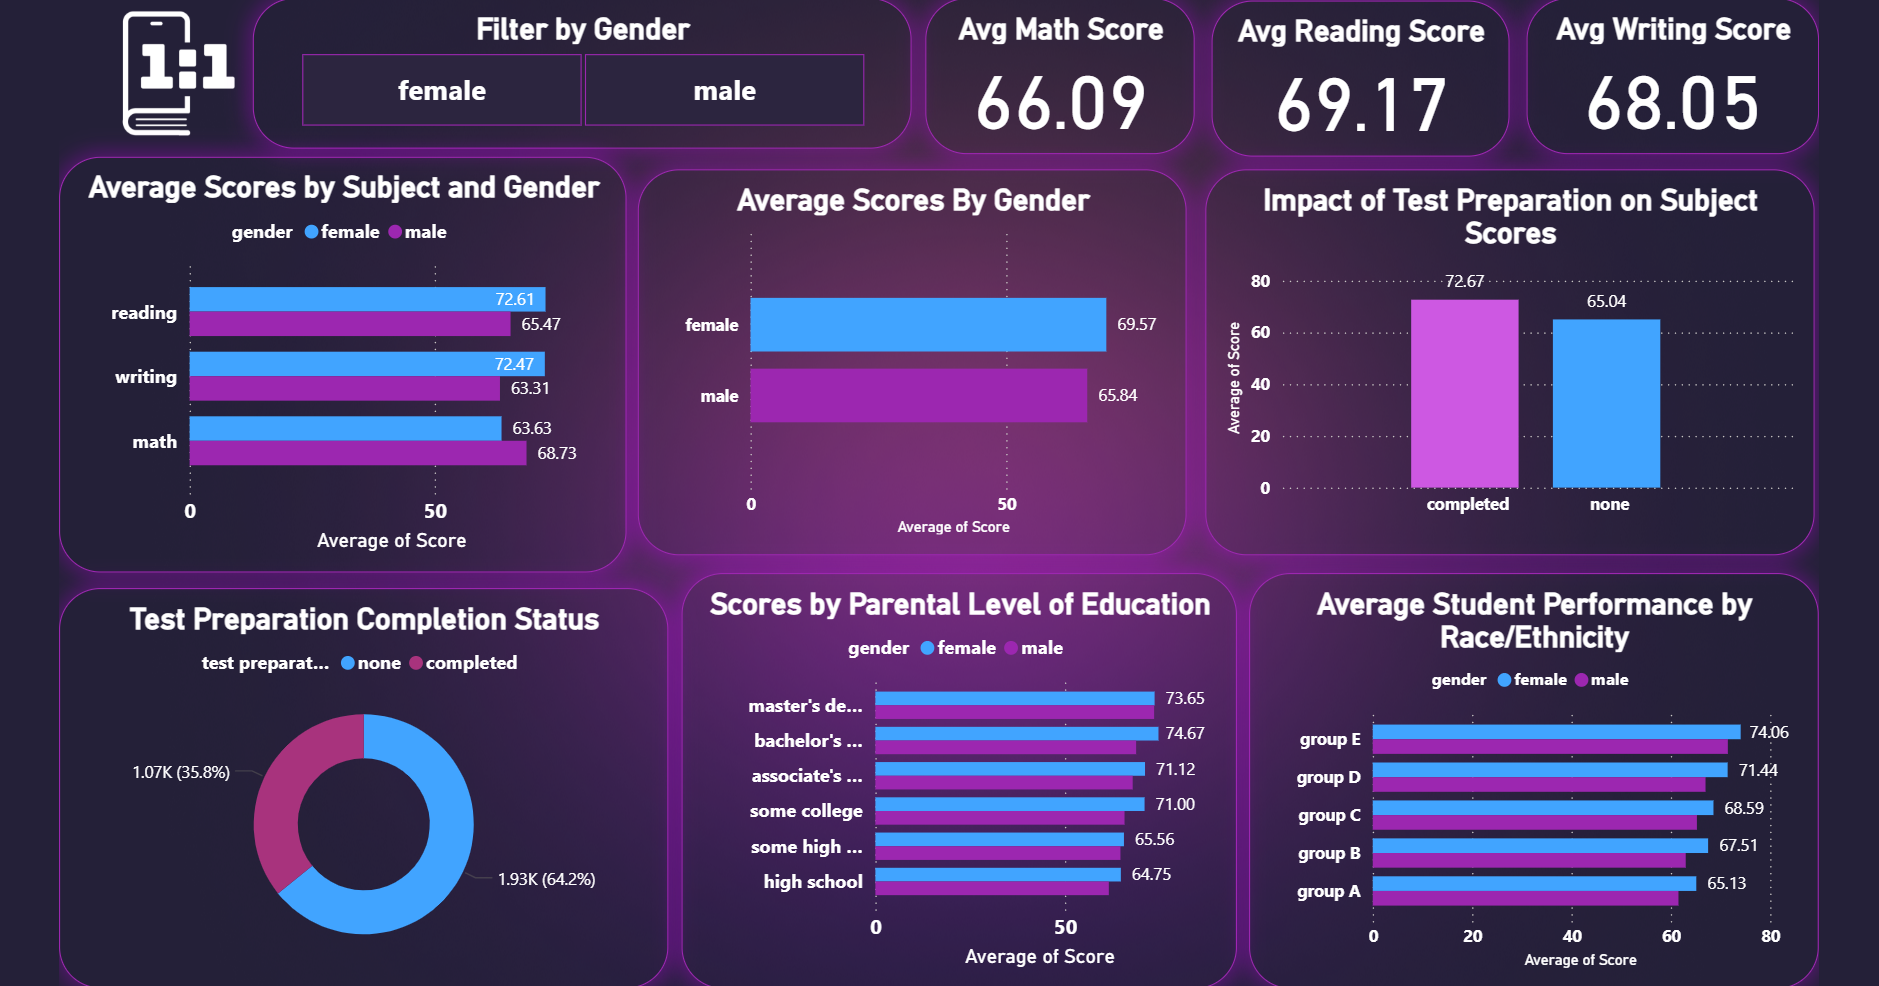

The page's visual inventory and layout, read from the dashboard file:
{"tool":"powerbi","page":{"name":"Edza AI","canvas":[1280,720],"ordinal":0},"visuals":[{"type":"image","box":[0,0,178.4,109.8],"z":0},{"type":"slicer","title":"Filter by Gender","fields":{"Values":["StudentsPerformance.gender"]},"box":[141.3,0,478.9,109.8],"z":1000},{"type":"card","title":"\tAvg Math Score","fields":{"Values":["Avg(StudentsPerformance.Score)"]},"box":[629.8,0,196.2,113.9],"z":2000},{"type":"card","title":"\tAvg Reading Score","fields":{"Values":["Avg(StudentsPerformance.Score)"]},"box":[838.4,1.4,216.8,113.9],"z":3000},{"type":"card","title":"\tAvg Writing Score","fields":{"Values":["Avg(StudentsPerformance.Score)"]},"box":[1067.6,0,212.7,113.9],"z":4000},{"type":"clusteredBarChart","title":"Average Scores by Subject and Gender","fields":{"Category":["StudentsPerformance.Subject"],"Y":["Avg(StudentsPerformance.Score)"],"Series":["StudentsPerformance.gender"]},"box":[0,115.7,413,302.3],"z":5000},{"type":"clusteredBarChart","title":"Average Scores By Gender","fields":{"Category":["StudentsPerformance.gender"],"Y":["Avg(StudentsPerformance.Score)"]},"box":[420.5,124.4,399.3,281.1],"z":6000},{"type":"columnChart","title":"Impact of Test Preparation on Subject Scores","fields":{"Y":["Avg(StudentsPerformance.Score)"],"Category":["StudentsPerformance.test preparation course"]},"box":[833.5,124.4,442.8,281.1],"z":7000},{"type":"donutChart","title":"Test Preparation Completion Status","fields":{"Y":["CountNonNull(StudentsPerformance.test preparation course)"],"Category":["StudentsPerformance.test preparation course"]},"box":[0,429.2,442.8,291.1],"z":7001},{"type":"clusteredBarChart","title":"Scores by Parental Level of Education","fields":{"Category":["StudentsPerformance.parental level of education"],"Y":["Avg(StudentsPerformance.Score)"],"Series":["StudentsPerformance.gender"]},"box":[452.8,418,404.3,302.3],"z":7002},{"type":"clusteredBarChart","title":"Average Student Performance by Race/Ethnicity","fields":{"Y":["Avg(StudentsPerformance.Score)"],"Series":["StudentsPerformance.gender"],"Category":["StudentsPerformance.race/ethnicity"]},"box":[865.8,418,414.2,302.3],"z":7004}]}

Visuals, with their boxes in screenshot pixels (x1, y1, x2, y2):
image: bbox=(181, 34, 423, 183)
"Filter by Gender" slicer: bbox=(372, 34, 1021, 183)
"	Avg Math Score" card: bbox=(1034, 34, 1299, 188)
"	Avg Reading Score" card: bbox=(1316, 36, 1610, 190)
"	Avg Writing Score" card: bbox=(1626, 34, 1878, 188)
"Average Scores by Subject and Gender" clusteredBarChart: bbox=(181, 191, 740, 600)
"Average Scores By Gender" clusteredBarChart: bbox=(750, 203, 1291, 583)
"Impact of Test Preparation on Subject Scores" columnChart: bbox=(1309, 203, 1878, 583)
"Test Preparation Completion Status" donutChart: bbox=(181, 615, 781, 985)
"Scores by Parental Level of Education" clusteredBarChart: bbox=(794, 600, 1341, 985)
"Average Student Performance by Race/Ethnicity" clusteredBarChart: bbox=(1353, 600, 1878, 985)
